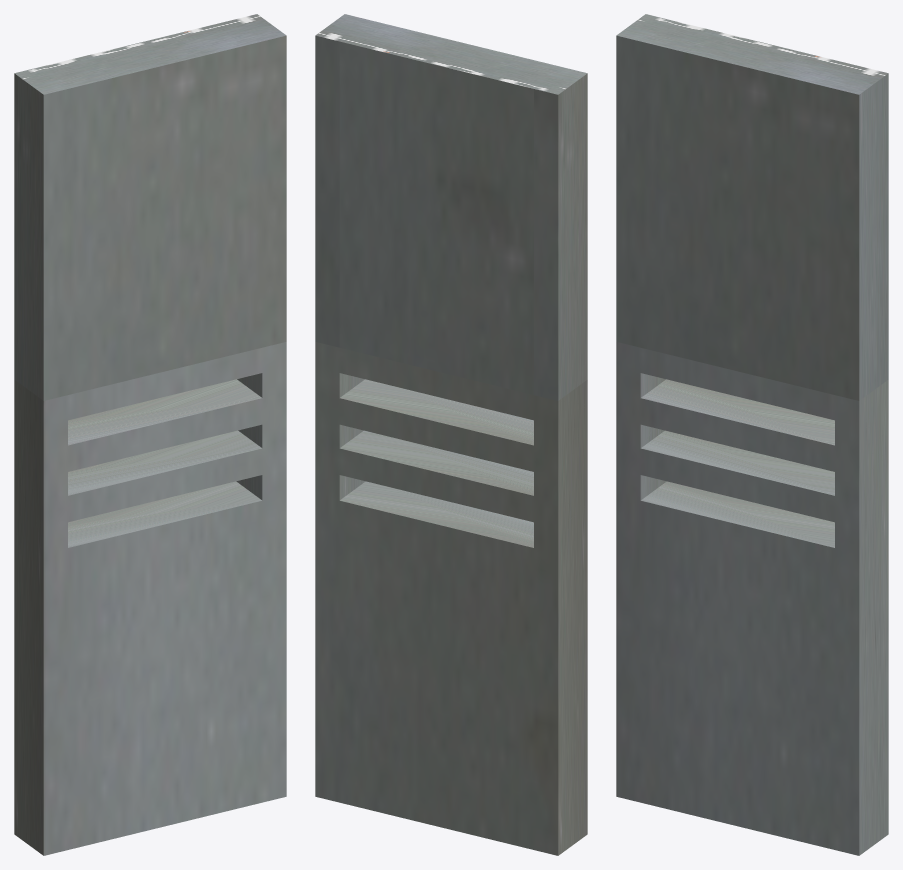
The model's file is locker_door.fbx.
3 renders of one model, left to right at view 1: azimuth 30°, elevation 25°; view 2: azimuth 150°, elevation 25°; view 3: azimuth 330°, elevation 25°, orthographic.
Visible parts, largest first — view 1: Cube; view 2: Cube; view 3: Cube.
Boxes of the visible parts, left/top/right/bottom form: Cube: left=14, top=14, right=286, bottom=855; Cube: left=315, top=14, right=587, bottom=855; Cube: left=616, top=14, right=888, bottom=855.
Bounding box in the file's own units: 99.65 × 298 × 20.94.
